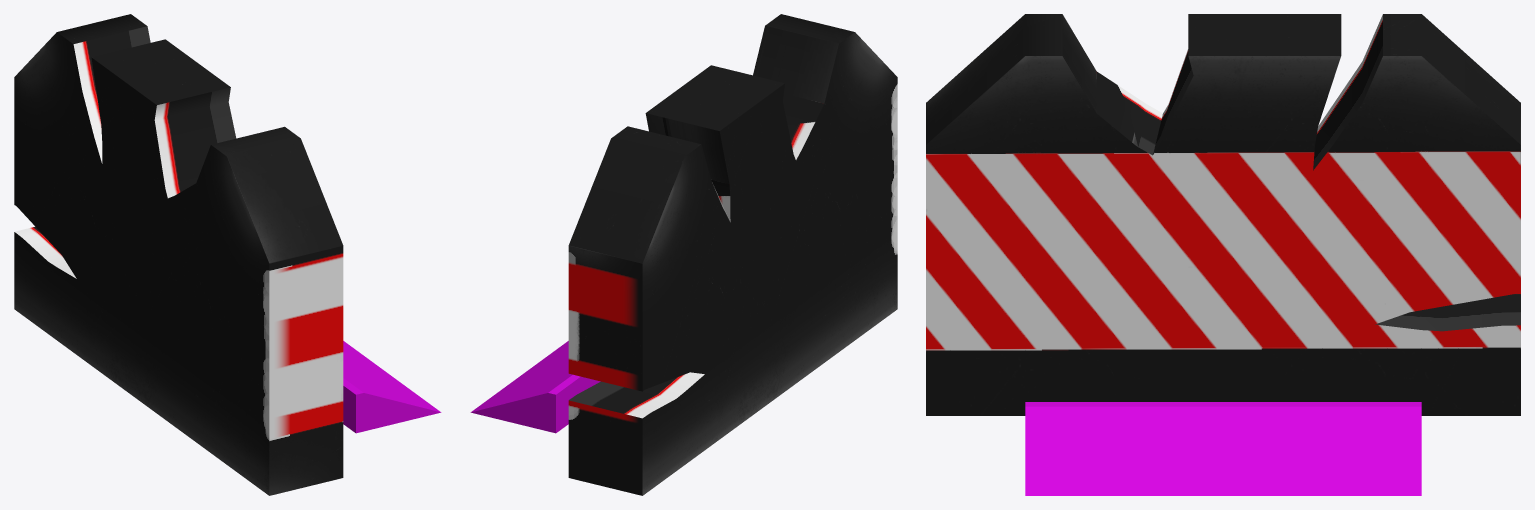
File: Muro_Roto.fbx
3 views of the same model, side by side, from view 1: azimuth 30°, elevation 25°; view 2: azimuth 150°, elevation 25°; view 3: azimuth 270°, elevation 25° (orthographic). The views are drawn at different scales.
Visible parts, largest first — view 1: MURO_ROTO_Rampa; view 2: MURO_ROTO_Rampa; view 3: MURO_ROTO_Rampa.
Part boxes in pixels (bbox=[...]): MURO_ROTO_Rampa: bbox=[14, 14, 441, 495]; MURO_ROTO_Rampa: bbox=[470, 14, 897, 495]; MURO_ROTO_Rampa: bbox=[926, 14, 1520, 495].
Size of the model in its own units: 5.83 by 8.01 by 12.
2 materials, 1 textured.
